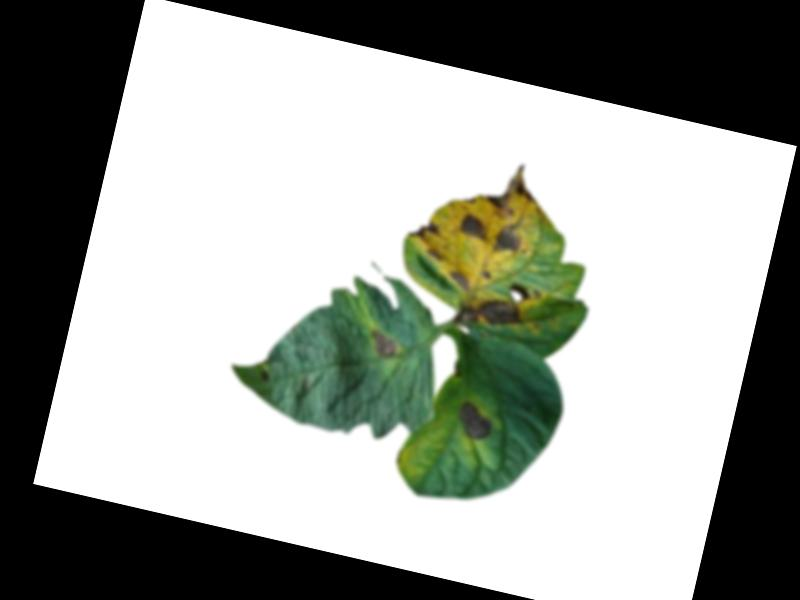Early_blight: (482, 157, 547, 225), (451, 288, 526, 340), (452, 399, 495, 444), (488, 218, 529, 260), (455, 210, 491, 243), (368, 328, 401, 361), (407, 215, 443, 245), (445, 270, 474, 294), (422, 248, 443, 262), (256, 369, 271, 385), (480, 270, 492, 281)
